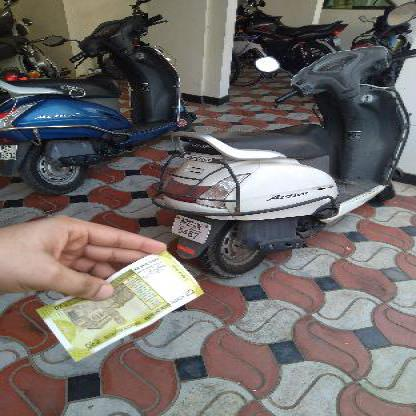New20Back: (36, 250, 199, 356)
